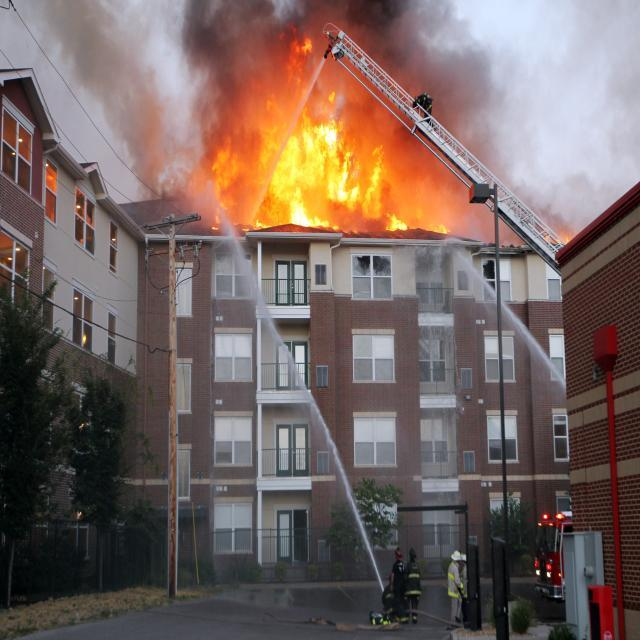Fire: (262, 88, 386, 233), (210, 146, 262, 232), (282, 22, 313, 88), (384, 209, 408, 233), (544, 230, 570, 246), (45, 163, 57, 194), (430, 219, 450, 234), (75, 238, 83, 245), (50, 212, 54, 222), (78, 512, 82, 520), (80, 422, 84, 428)
Smoke: (40, 0, 282, 89), (316, 2, 521, 94), (387, 92, 539, 212), (92, 88, 214, 198), (582, 0, 640, 169), (542, 168, 606, 228), (212, 91, 260, 147), (452, 212, 528, 245)
